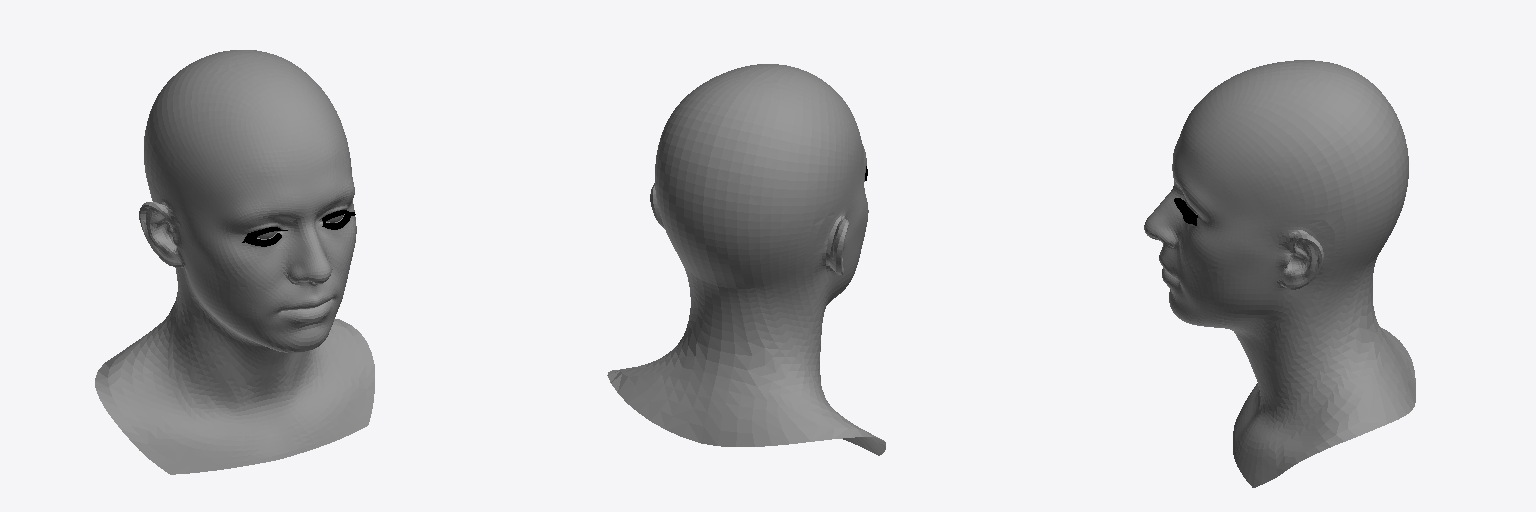
Rendered from identity037.obj.
3 views of the same model, side by side, from view 1: azimuth 30°, elevation 25°; view 2: azimuth 150°, elevation 25°; view 3: azimuth 270°, elevation 25° (orthographic).
Bounding box in the file's own units: 24.83 × 33.81 × 22.32.